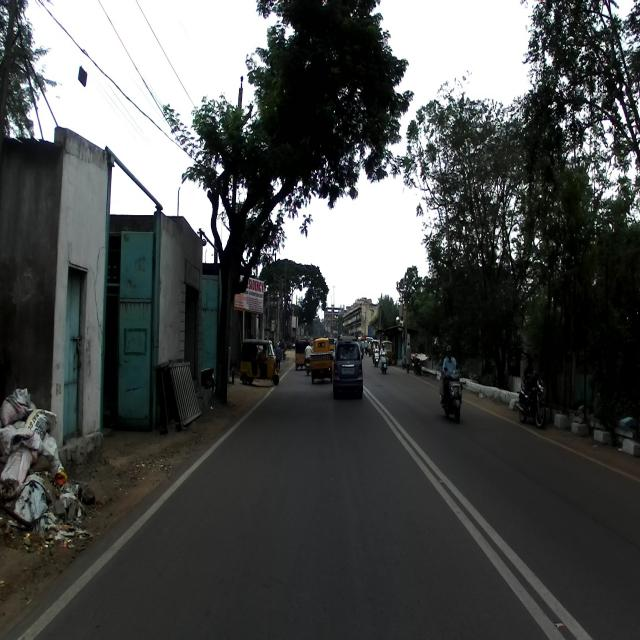car: (331, 332, 364, 403)
scooter: (438, 363, 465, 423)
